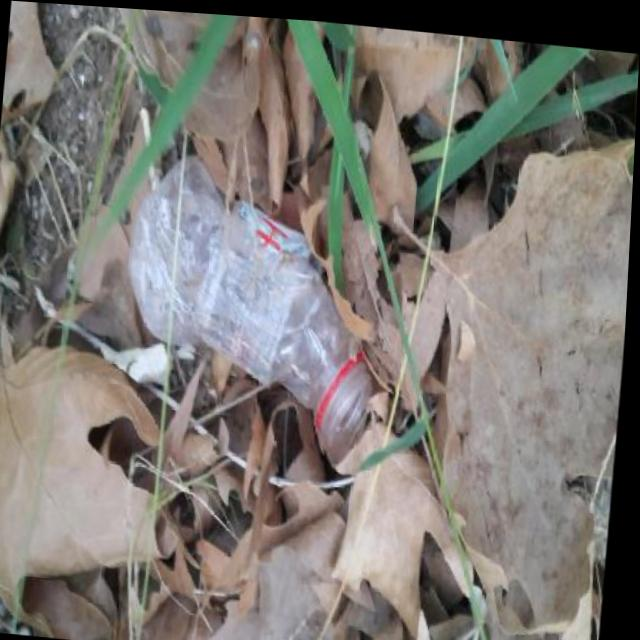plastic: (191, 152, 497, 434)
